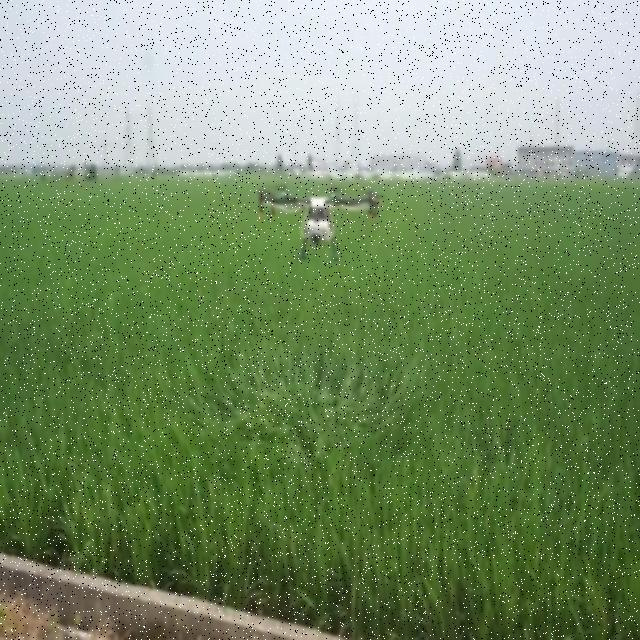UAV: (257, 185, 383, 261)
